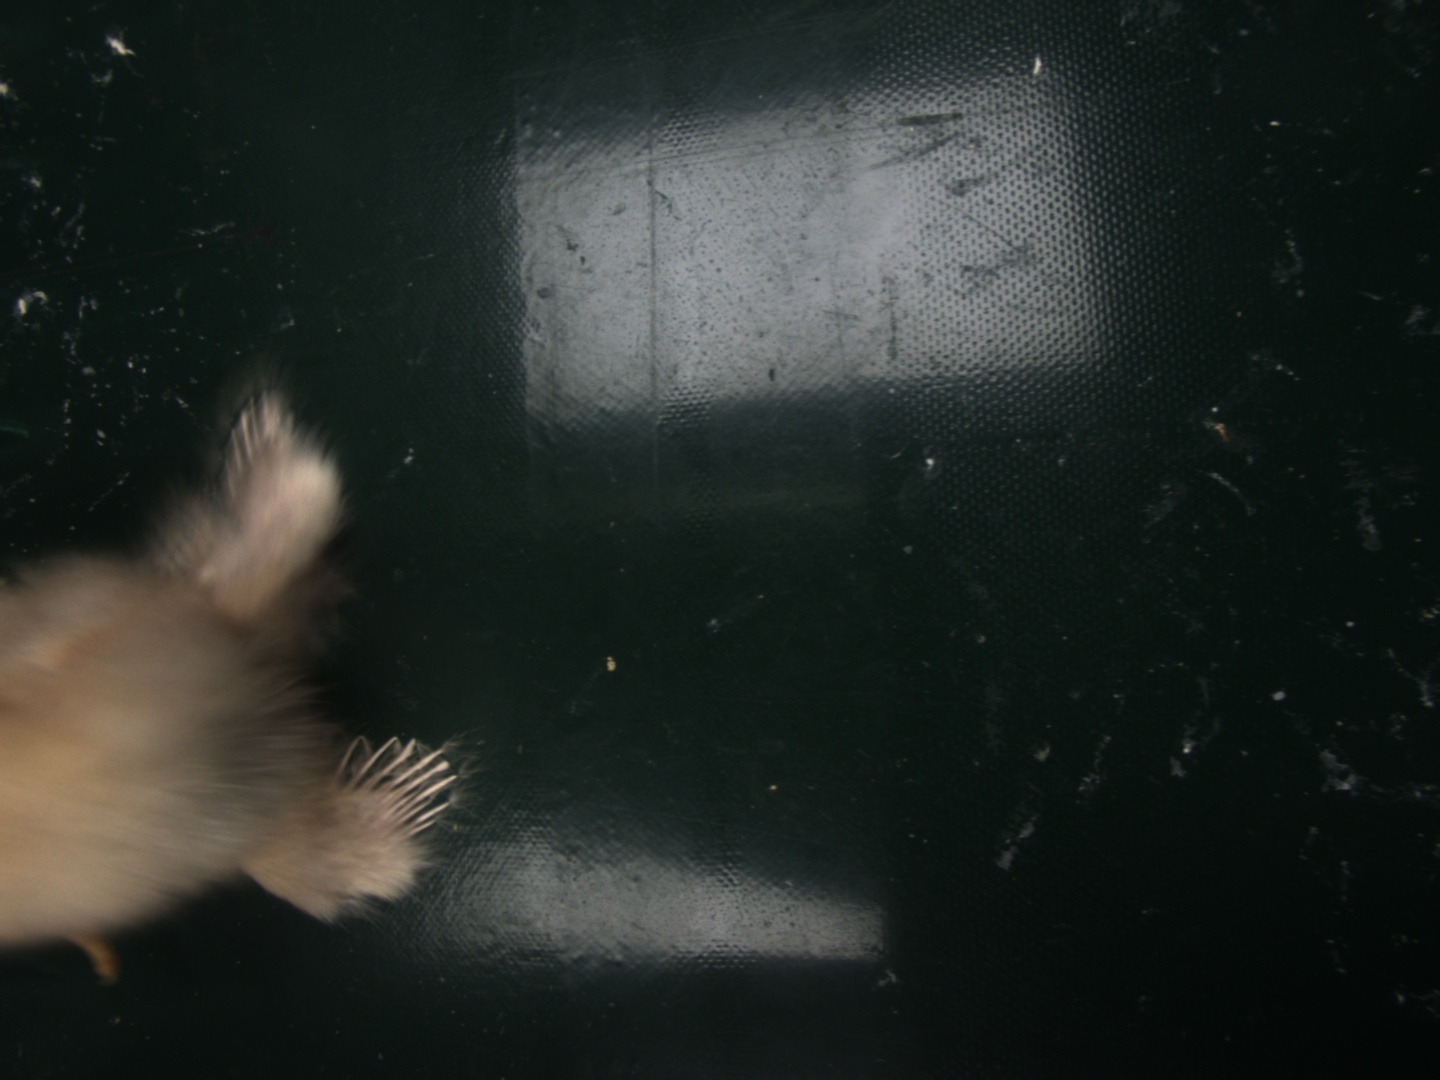female: (329, 732, 461, 842)
